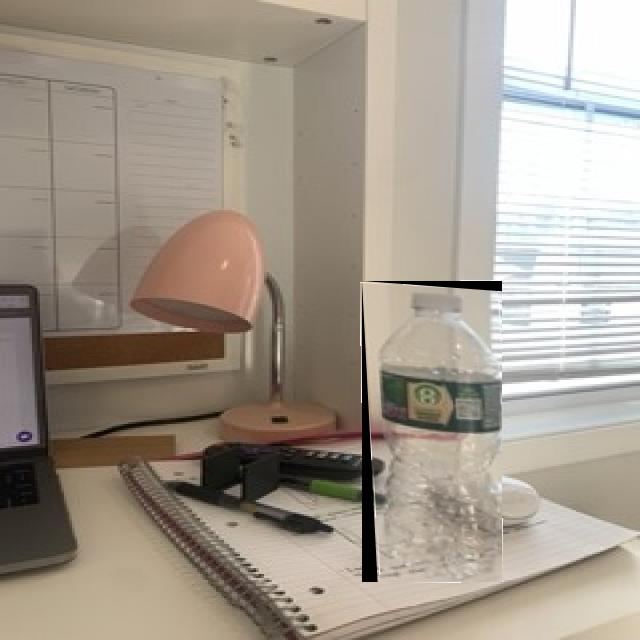water_bottle: (362, 281, 502, 582)
